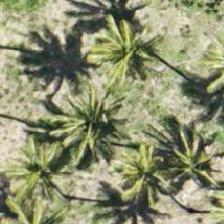coconut_tree: (94, 131, 184, 221), (55, 79, 145, 169), (90, 1, 180, 91), (139, 114, 223, 204), (0, 122, 83, 212)
